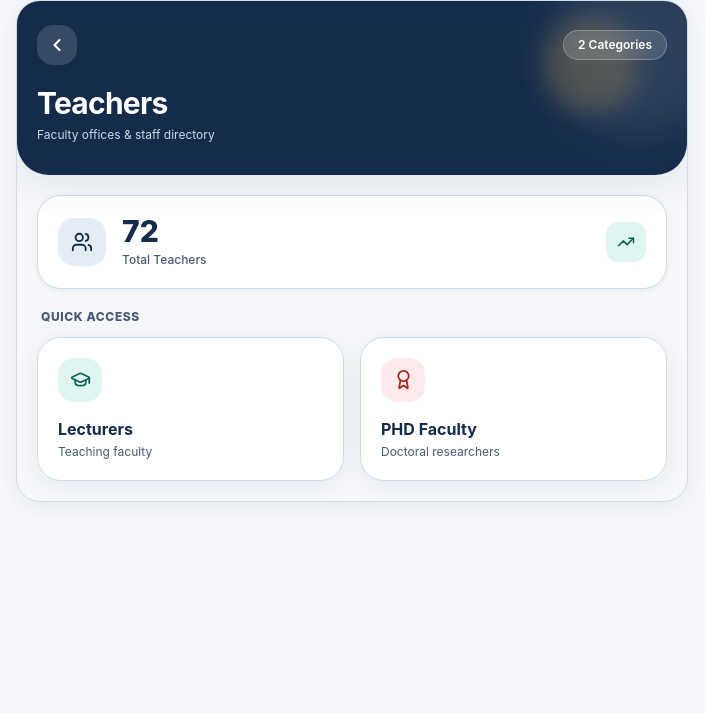
Test: CampusHubWayfindingEngine › opens the next page when a card is clicked instead of showing it below, and returns on Back
Earlier steps of the test are not shown.
Later steps or results of the test are not shown.
Check: the text "2 Categories" is shown, box [563, 30, 667, 60]
Check: the text "Total Teachers" is shown, box [122, 252, 206, 268]
Click the button "Lecturers Teaching faculty".
click(80, 380)  # box [37, 336, 344, 481]
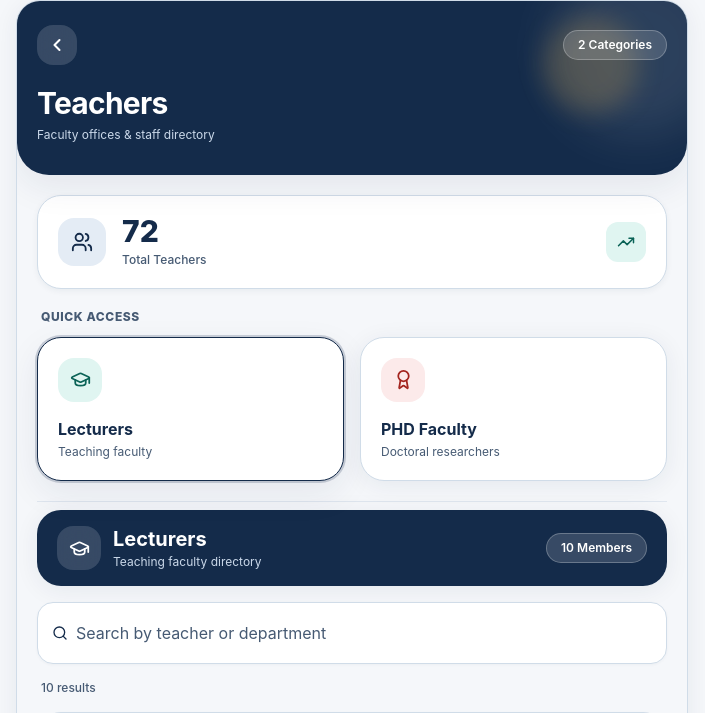
Check: the text "10 Members" is shown, box [546, 533, 647, 563]
Check: the field with placeholder "Search by teacher or department" is shown, box [76, 611, 652, 655]
Click the button named "Back to Faculty & Teachers".
click(57, 45)  # box [37, 25, 77, 65]
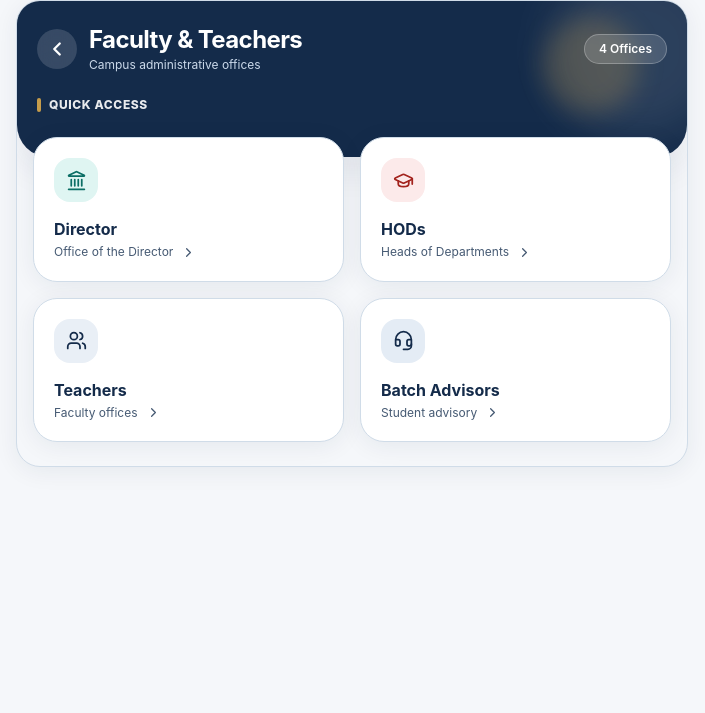
Check: the text "4 Offices" is shown, box [584, 34, 667, 64]
Click the button named "Back to Campus Portal".
click(57, 49)  # box [37, 29, 77, 69]
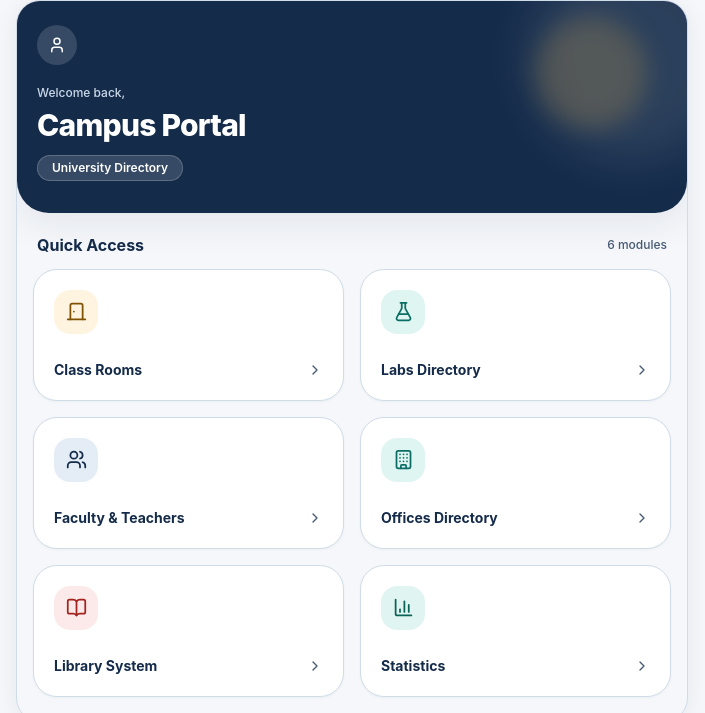
Check: the heading "Quick Access" is shown, box [37, 232, 144, 256]
Check: the text "6 modules" is shown, box [607, 236, 667, 252]
Click the button "Offices Directory".
click(403, 460)  # box [360, 416, 671, 548]
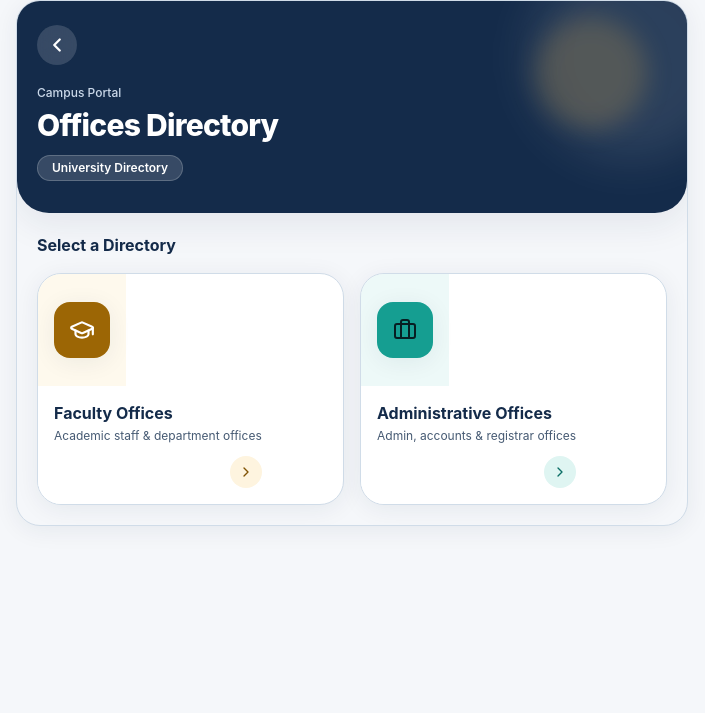
Check: the heading "Offices Directory" is shown, box [37, 107, 278, 143]
Check: the button "Faculty Offices" is shown, box [37, 272, 344, 505]
Check: the button "Administrative Offices" is shown, box [360, 272, 667, 505]
Click the button named "Back to Campus Portal".
click(57, 45)  # box [37, 25, 77, 65]
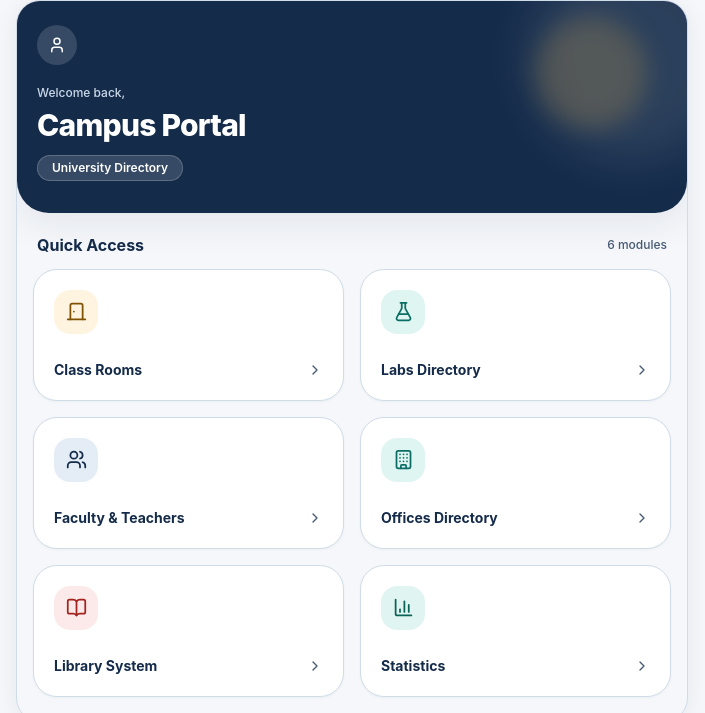
Check: the text "6 modules" is shown, box [607, 236, 667, 252]
Click the button "Library System".
click(76, 608)  # box [33, 564, 344, 696]
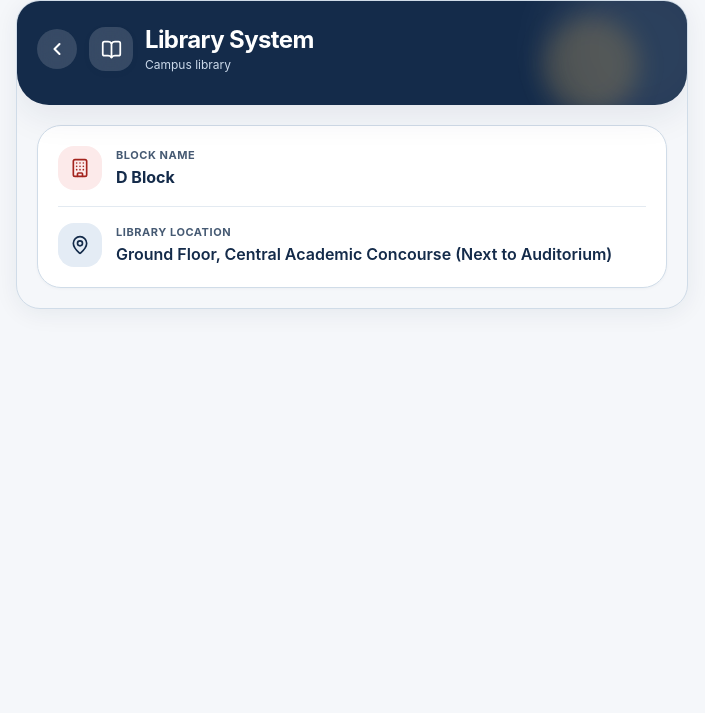
Check: the heading "Library System" is shown, box [145, 25, 314, 55]
Check: the text "Block Name" is shown, box [116, 147, 195, 163]
Check: the text "D Block" is shown, box [116, 167, 175, 187]
